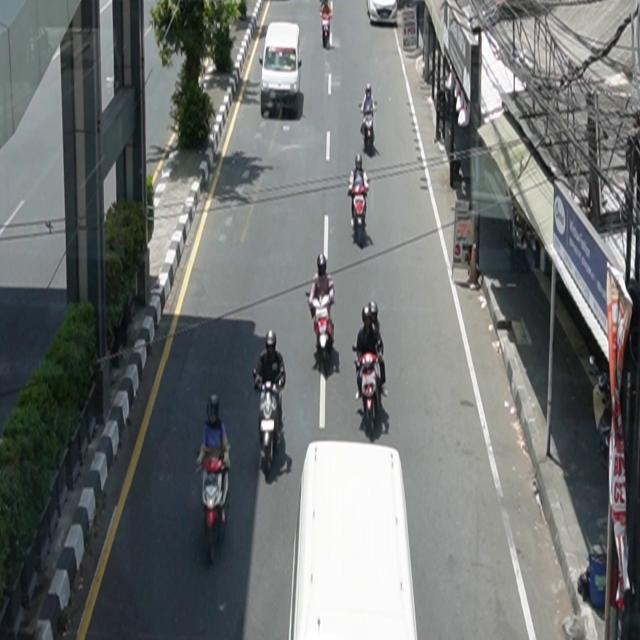bus: (289, 440, 419, 640)
car: (260, 22, 303, 118), (367, 1, 398, 26)
